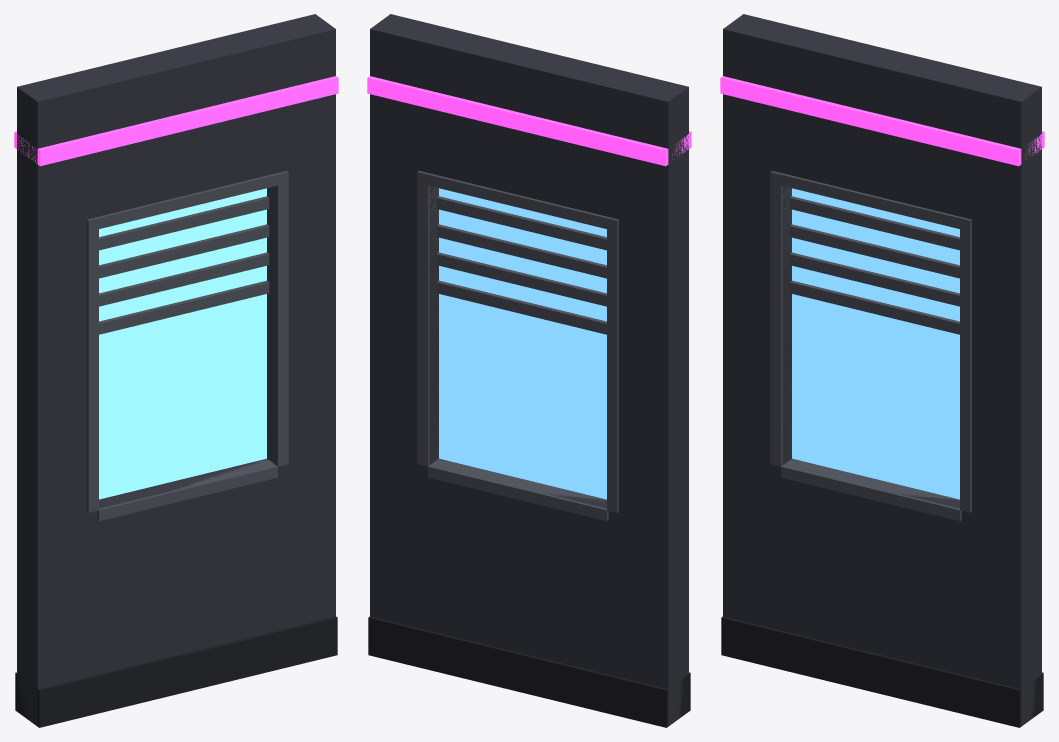
The model's file is cyb-concreto-rosa-janela.gltf.
3 renders of one model, left to right at view 1: azimuth 30°, elevation 25°; view 2: azimuth 150°, elevation 25°; view 3: azimuth 330°, elevation 25°, orthographic.
Visible parts, largest first — view 1: cyb-concreto-rosa-janela; view 2: cyb-concreto-rosa-janela; view 3: cyb-concreto-rosa-janela.
Boxes of the visible parts, box(x1,y1,x2,y2) form: cyb-concreto-rosa-janela: box(14, 14, 338, 727); cyb-concreto-rosa-janela: box(367, 14, 691, 727); cyb-concreto-rosa-janela: box(720, 14, 1044, 727).
Size of the model in its own units: 1 by 2 by 0.15.
